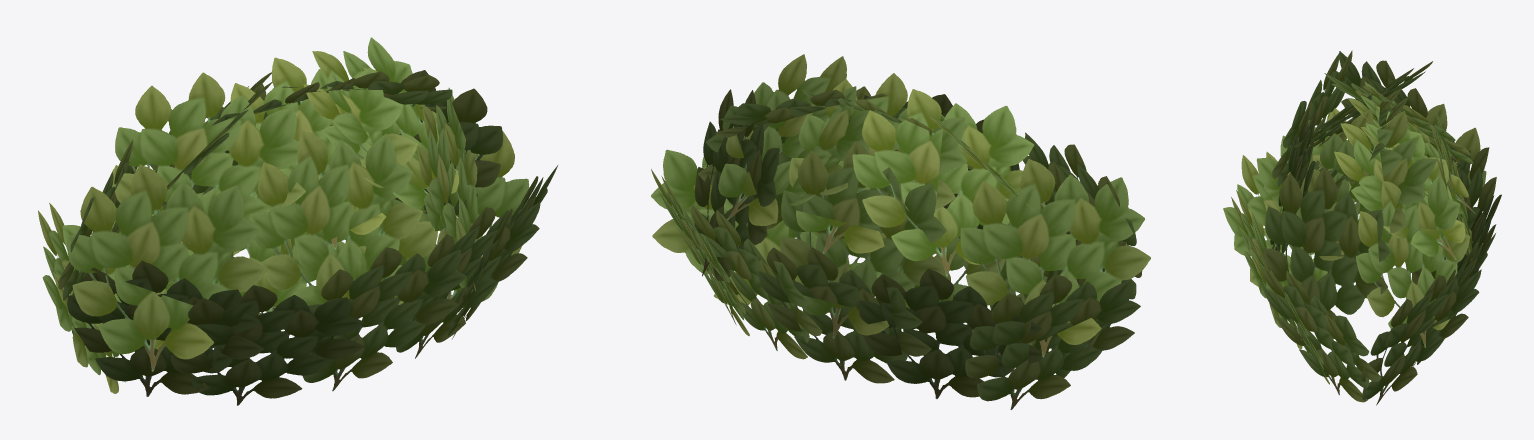
Rendered from dark-bush-007-67.glb.
The picture shows the model from 3 angles, left to right: view 1: azimuth 30°, elevation 25°; view 2: azimuth 150°, elevation 25°; view 3: azimuth 270°, elevation 25°; orthographic projection. The views are drawn at different scales.
Visible parts, largest first — view 1: dark_bush.007_67; view 2: dark_bush.007_67; view 3: dark_bush.007_67.
Part boxes in pixels (bbox=[...]): dark_bush.007_67: bbox=[38, 37, 557, 405]; dark_bush.007_67: bbox=[651, 54, 1150, 409]; dark_bush.007_67: bbox=[1223, 50, 1501, 405].
Size of the model in its own units: 20.07 by 11.8 by 11.05.
1 material, 1 textured.
